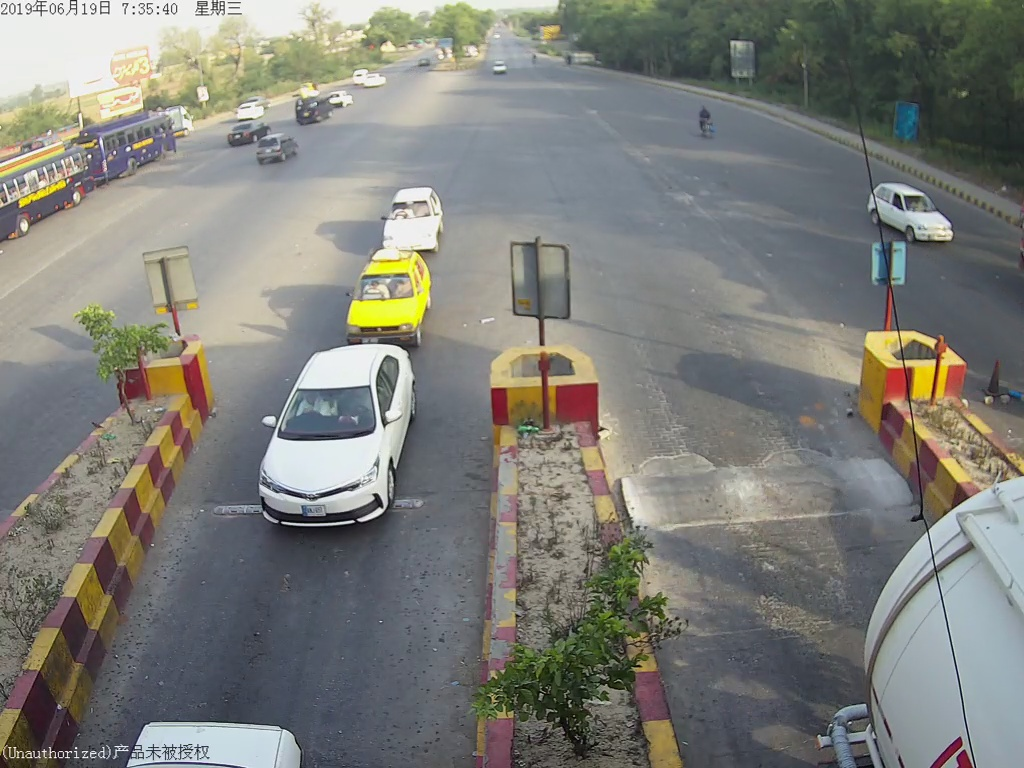Cat-1: (248, 357, 431, 529), (341, 254, 429, 341), (373, 185, 453, 251)
